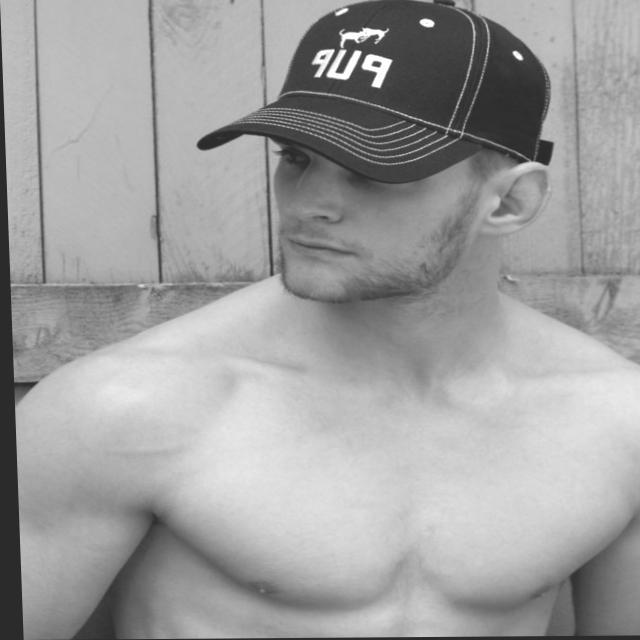hat: (188, 0, 556, 176)
